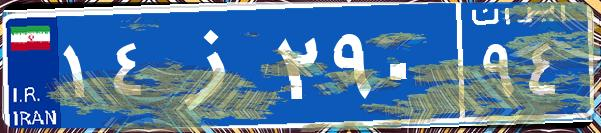0: (385, 28, 445, 110)
1: (57, 26, 110, 107)
2: (273, 28, 330, 110)
4: (110, 28, 158, 105), (525, 38, 570, 115)
9: (330, 28, 385, 110), (475, 38, 525, 113)
ز: (158, 15, 273, 115)
